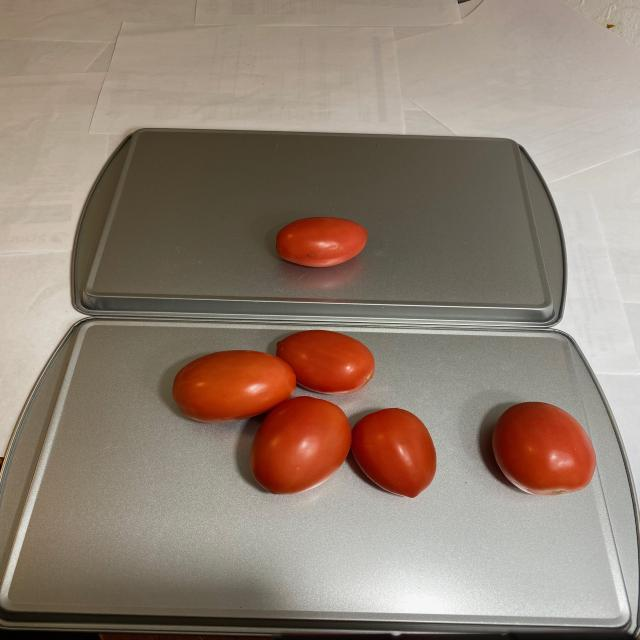tomato: (169, 332, 442, 500), (488, 399, 602, 505), (268, 218, 376, 272)
